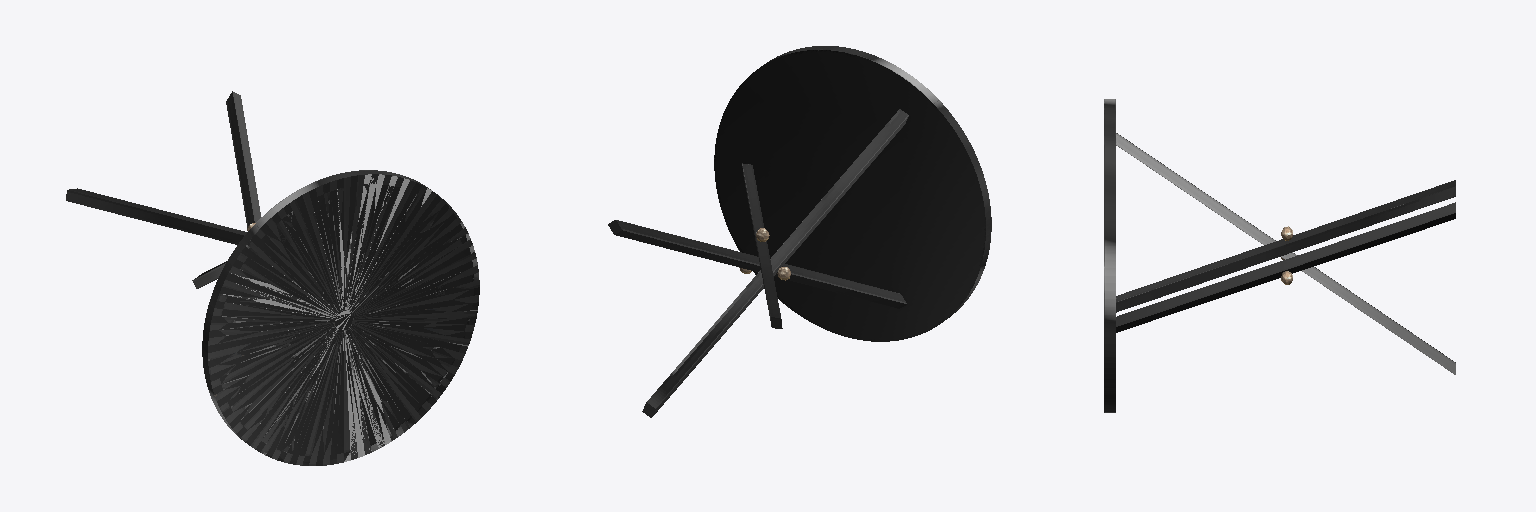
3 views of the same model, side by side, from view 1: azimuth 30°, elevation 25°; view 2: azimuth 150°, elevation 25°; view 3: azimuth 270°, elevation 25° (orthographic).
Bounding box in the file's own units: 0.65 × 0.65 × 0.7276.
1 materials, 1 textured.